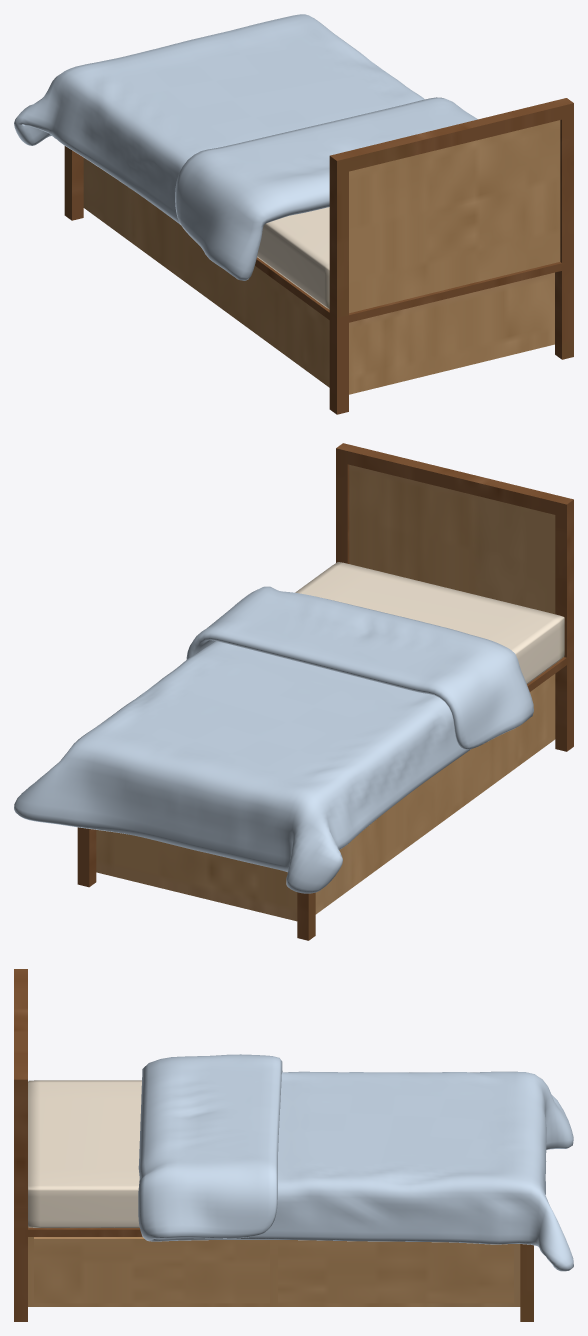
File: Bed11.glb
The picture shows the model from 3 angles, top to bottom: view 1: azimuth 30°, elevation 25°; view 2: azimuth 150°, elevation 25°; view 3: azimuth 270°, elevation 25°; orthographic projection. The views are drawn at different scales.
Parts seen in each view (by area): view 1: BedFrame11, Blanket11, Mattress11; view 2: Blanket11, BedFrame11, Mattress11; view 3: Blanket11, Mattress11, BedFrame11_Drawer01, BedFrame11_Drawer02, BedFrame11.
Part boxes in pixels (x1,y1,x2,y2): BedFrame11: (64, 98, 573, 414); Blanket11: (14, 14, 477, 280); Mattress11: (257, 207, 329, 309); Blanket11: (14, 586, 533, 893); BedFrame11: (77, 443, 573, 940); Mattress11: (295, 562, 564, 683); Blanket11: (138, 1054, 573, 1271); Mattress11: (28, 1080, 141, 1227); BedFrame11_Drawer01: (34, 1237, 269, 1303); BedFrame11_Drawer02: (278, 1240, 513, 1303); BedFrame11: (14, 969, 533, 1321).
Size of the model in its own units: 3.21 by 2.37 by 4.96.
Materials: 3 (3 with a texture image).
